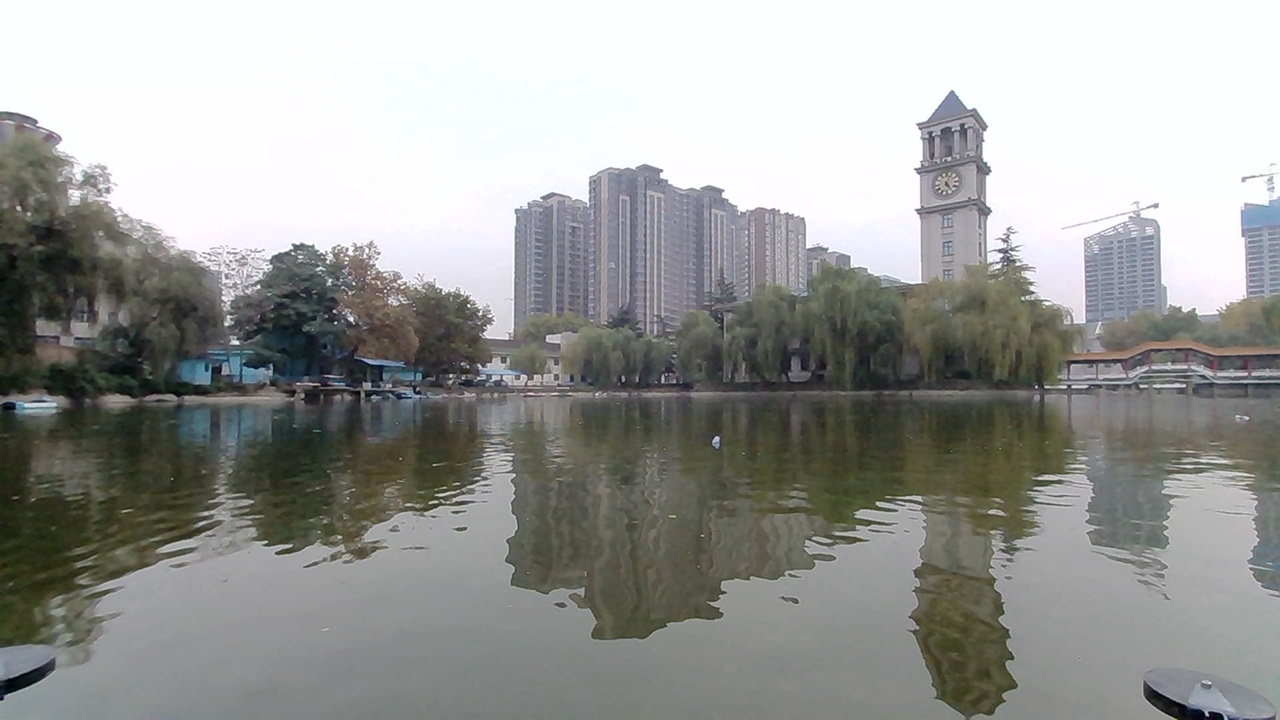bottle: (697, 419, 749, 451), (1228, 407, 1260, 426)
